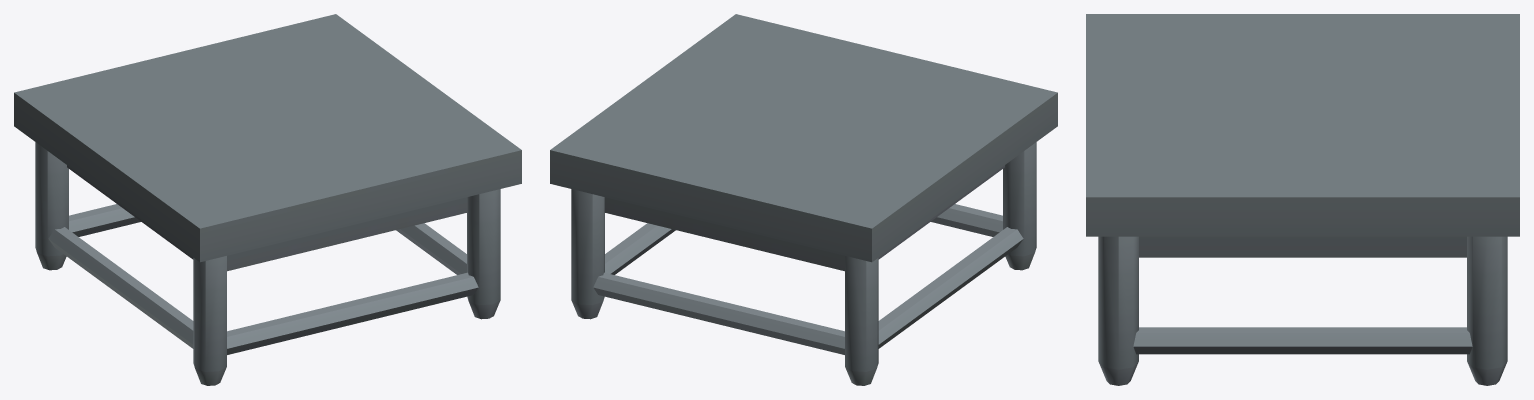
File: kitchentable-a.glb
The picture shows the model from 3 angles, left to right: view 1: azimuth 30°, elevation 25°; view 2: azimuth 150°, elevation 25°; view 3: azimuth 270°, elevation 25°; orthographic projection. The views are drawn at different scales.
Parts seen in each view (by area): view 1: kitchentable_A; view 2: kitchentable_A; view 3: kitchentable_A.
Boxes of the visible parts, x1=… form: kitchentable_A: x1=14, y1=14, x2=521, y2=385; kitchentable_A: x1=550, y1=14, x2=1057, y2=385; kitchentable_A: x1=1086, y1=14, x2=1519, y2=385.
Bounding box in the file's own units: 2 × 1 × 2.
Materials: 1 (1 with a texture image).
